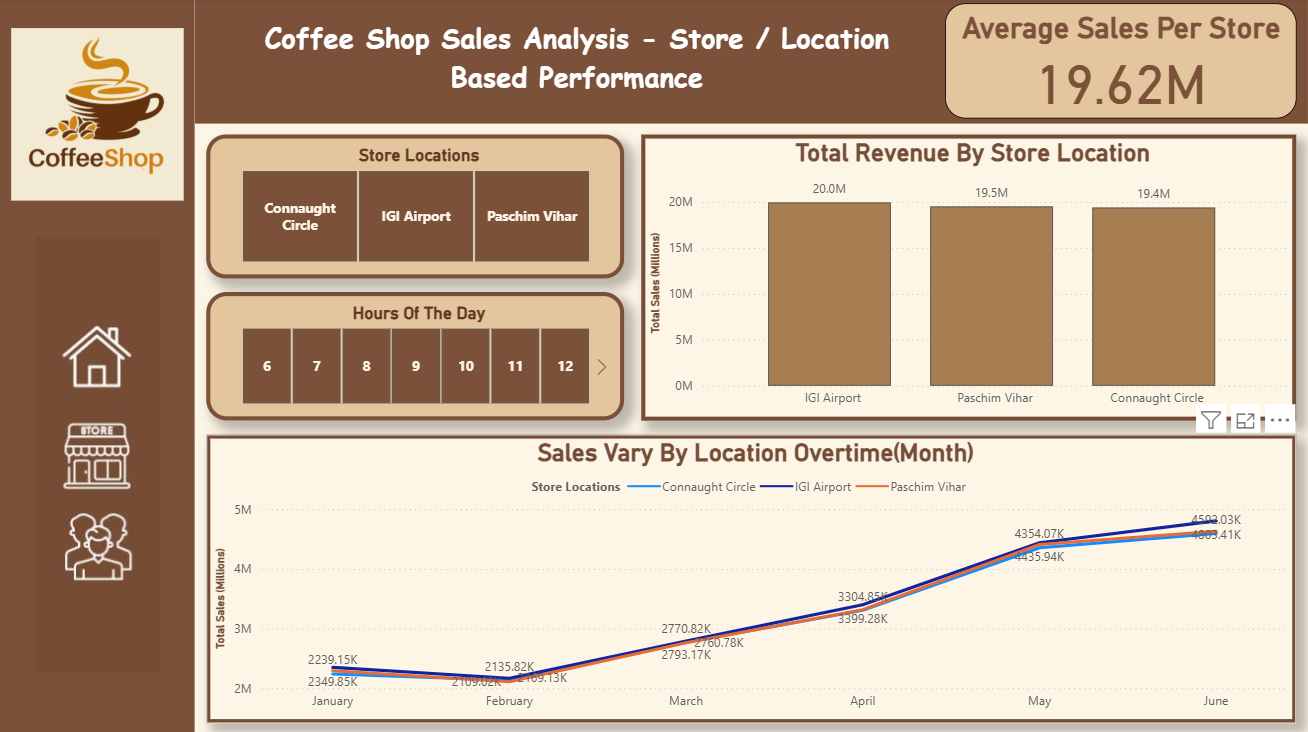

The dashboard page shown, as its layout file describes it:
{"tool":"powerbi","page":{"name":"Store / Location Based Performance","canvas":[1280,720],"ordinal":2},"visuals":[{"type":"columnChart","title":"Total Revenue By Store Location","fields":{"Y":["Measurments.Total Sales"],"Category":["Orders.store_location"]},"box":[627.3,134.5,640.8,280],"z":0},{"type":"lineChart","title":"Sales Vary By Location Overtime(Month)","fields":{"Y":["Measurments.Total Sales"],"Series":["Orders.store_location"],"Category":["Orders.transaction_date.Variation.Date Hierarchy.Month"]},"box":[201.8,428,1066.3,282.5],"z":1000},{"type":"slicer","title":"Hours Of The Day","fields":{"Values":["Orders.Hours_ofThe_Day"]},"box":[201.8,288.6,408.4,126],"z":2000},{"type":"shape","box":[191.2,0,1088.8,123.8],"z":3000},{"type":"shape","box":[0,0,190.6,720.7],"z":4000},{"type":"image","box":[3.7,229.9,184.6,436.6],"z":5000},{"type":"image","box":[6.1,0,178.5,229.9],"z":6000},{"type":"card","title":"Average Sales Per Store","fields":{"Values":["Measurments.Average_Store_sales"]},"box":[925,6.2,343.8,112.5],"z":7000},{"type":"slicer","title":"Store Locations","fields":{"Values":["Orders.store_location"]},"box":[201.8,134.5,408.4,140.6],"z":8000},{"type":"textbox","box":[215.2,15.9,698.2,85.6],"z":9000}]}

Visuals, with their boxes in screenshot pixels (x1, y1, x2, y2), scaled from the page's 1280x720 canvas onto the 1308x732 screenshot:
"Total Revenue By Store Location" columnChart: 641 137 1296 421
"Sales Vary By Location Overtime(Month)" lineChart: 206 435 1296 722
"Hours Of The Day" slicer: 206 293 624 422
shape: 195 0 1307 126
shape: 0 0 195 731
image: 4 234 192 678
image: 6 0 189 234
"Average Sales Per Store" card: 945 6 1297 121
"Store Locations" slicer: 206 137 624 280
textbox: 220 16 933 103
